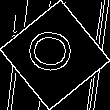O_E: (27, 31, 83, 79)
